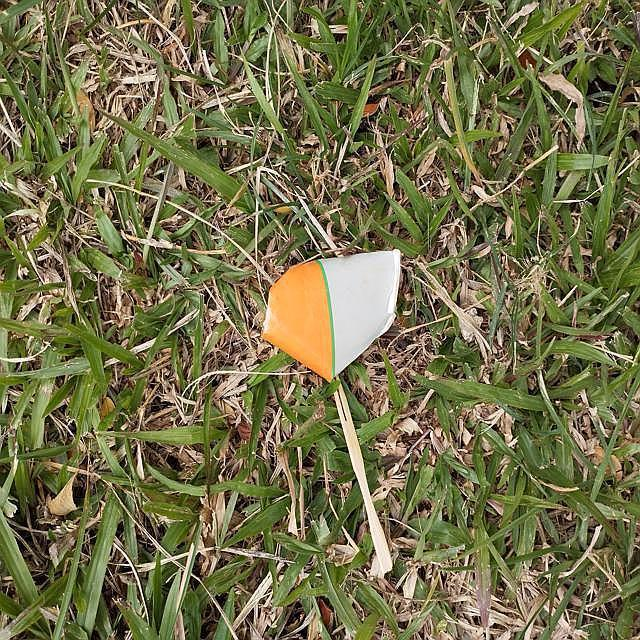Biodegradable: (264, 250, 399, 377)
